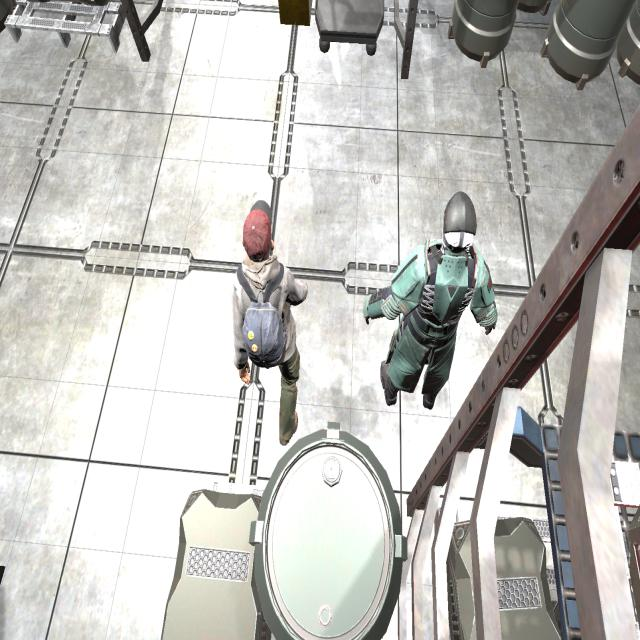thiefs: (222, 192, 312, 448)
